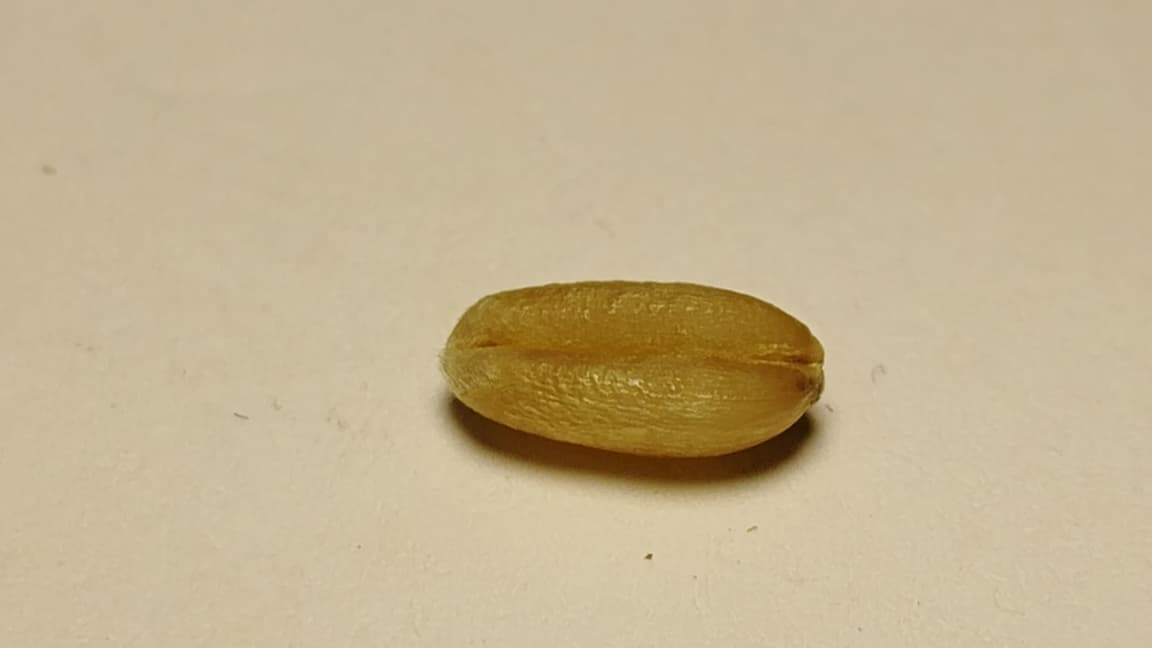healthy: (441, 281, 823, 453)
